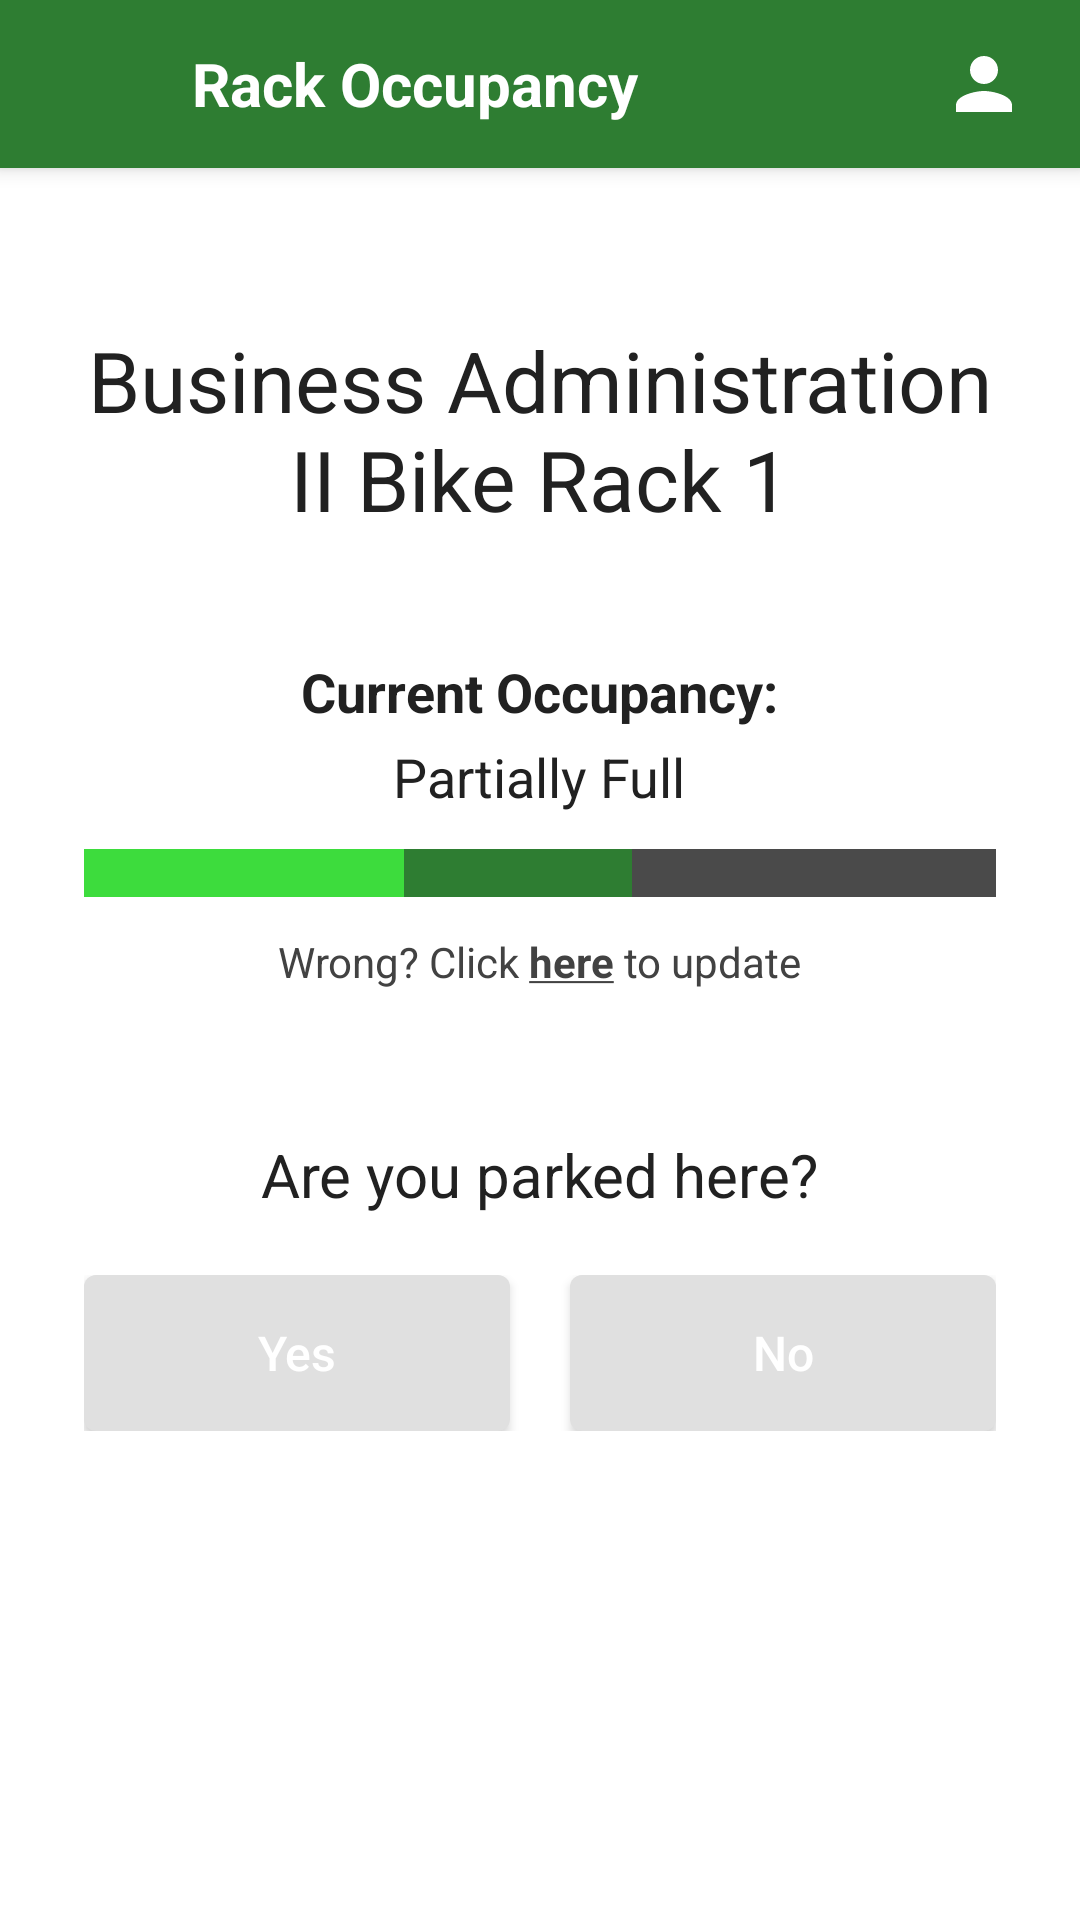

Icon bounding boxes for this 1080×1920 phone screenshot, format detection(x1, y1, x2, y2):
Profile: detection(956, 56, 1012, 112)
